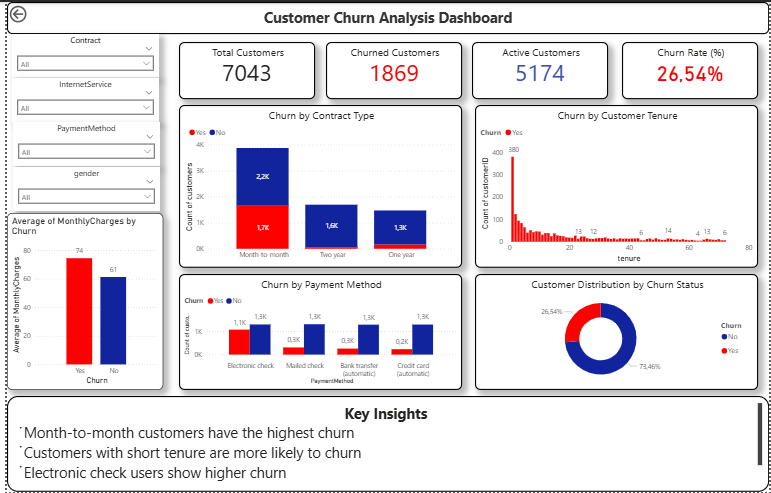

What the dashboard file says about the page in this screenshot:
{"tool":"powerbi","page":{"name":"Page 1","canvas":[1400,900],"ordinal":0},"visuals":[{"type":"textbox","box":[0,0,1399.6,58.8],"z":0},{"type":"card","title":"Total Customers","fields":{"Values":["clean_telco_churn.Total Customers"]},"box":[315.9,73.5,249.8,104.7],"z":1000},{"type":"card","title":"Churned Customers","fields":{"Values":["clean_telco_churn.Churned Customers"]},"box":[585.9,73.5,249.8,104.7],"z":2000},{"type":"card","title":"Active Customers","fields":{"Values":["clean_telco_churn.Active Customers"]},"box":[854.1,73.5,249.8,104.7],"z":3000},{"type":"actionButton","box":[0,1.6,99.6,40.8],"z":4000},{"type":"card","title":"Churn Rate (%)","fields":{"Values":["clean_telco_churn.Churn Rate (%)"]},"box":[1129.6,73.5,249.8,104.7],"z":5000},{"type":"columnChart","title":"Churn by  Contract Type","fields":{"Category":["clean_telco_churn.Contract"],"Series":["clean_telco_churn.Churn"],"Y":["CountNonNull(clean_telco_churn.customerID)"]},"box":[315.9,189.2,520,299.4],"z":6000},{"type":"columnChart","title":"Churn by Customer Tenure","fields":{"Category":["clean_telco_churn.tenure"],"Y":["CountNonNull(clean_telco_churn.customerID)"],"Series":["clean_telco_churn.Churn"]},"box":[859.6,189.2,520,299.4],"z":7000},{"type":"slicer","title":"Contract","fields":{"Values":["clean_telco_churn.Contract"]},"box":[9.2,58.8,270,80],"z":8000},{"type":"slicer","title":"InternetService","fields":{"Values":["clean_telco_churn.InternetService"]},"box":[9.2,139.6,270,80.8],"z":9000},{"type":"slicer","title":"PaymentMethod","fields":{"Values":["clean_telco_churn.PaymentMethod"]},"box":[11,220.4,270,80.8],"z":10000},{"type":"slicer","title":"gender","fields":{"Values":["clean_telco_churn.gender"]},"box":[11,303.1,270,80.8],"z":11000},{"type":"donutChart","title":"Customer Distribution by Churn Status","fields":{"Category":["clean_telco_churn.Churn"],"Y":["CountNonNull(clean_telco_churn.customerID)"]},"box":[859.6,499.6,519.8,213.1],"z":12000},{"type":"clusteredColumnChart","title":"Churn by Payment Method","fields":{"Category":["clean_telco_churn.PaymentMethod"],"Y":["CountNonNull(clean_telco_churn.customerID)"],"Series":["clean_telco_churn.Churn"]},"box":[315.9,499.6,519.8,213.1],"z":13000},{"type":"clusteredColumnChart","fields":{"Category":["clean_telco_churn.Churn"],"Y":["Avg(clean_telco_churn.MonthlyCharges)"]},"box":[0,387.6,286.5,325.1],"z":14000},{"type":"textbox","box":[0,723.7,1399.6,176.3],"z":15000}]}

Visuals, with their boxes in screenshot pixels (x1, y1, x2, y2), scaled from the page's 1400x900 canvas onto the 771x493 screenshot:
textbox: bbox=(0, 0, 770, 32)
"Total Customers" card: bbox=(174, 40, 312, 98)
"Churned Customers" card: bbox=(323, 40, 460, 98)
"Active Customers" card: bbox=(470, 40, 608, 98)
actionButton: bbox=(0, 1, 55, 23)
"Churn Rate (%)" card: bbox=(622, 40, 760, 98)
"Churn by  Contract Type" columnChart: bbox=(174, 104, 460, 268)
"Churn by Customer Tenure" columnChart: bbox=(473, 104, 760, 268)
"Contract" slicer: bbox=(5, 32, 154, 76)
"InternetService" slicer: bbox=(5, 76, 154, 121)
"PaymentMethod" slicer: bbox=(6, 121, 155, 165)
"gender" slicer: bbox=(6, 166, 155, 210)
"Customer Distribution by Churn Status" donutChart: bbox=(473, 274, 760, 390)
"Churn by Payment Method" clusteredColumnChart: bbox=(174, 274, 460, 390)
clusteredColumnChart - clean_telco_churn.Churn x Avg(clean_telco_churn.MonthlyCharges): bbox=(0, 212, 158, 390)
textbox: bbox=(0, 396, 770, 492)
